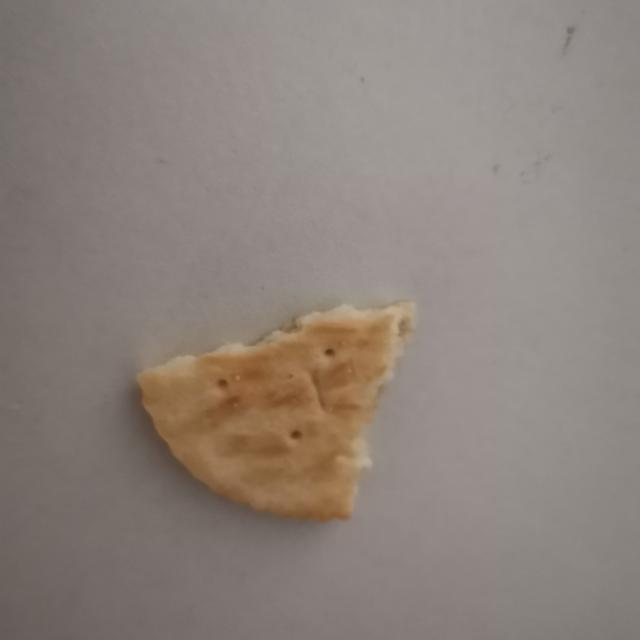Broken: (135, 298, 417, 522)
